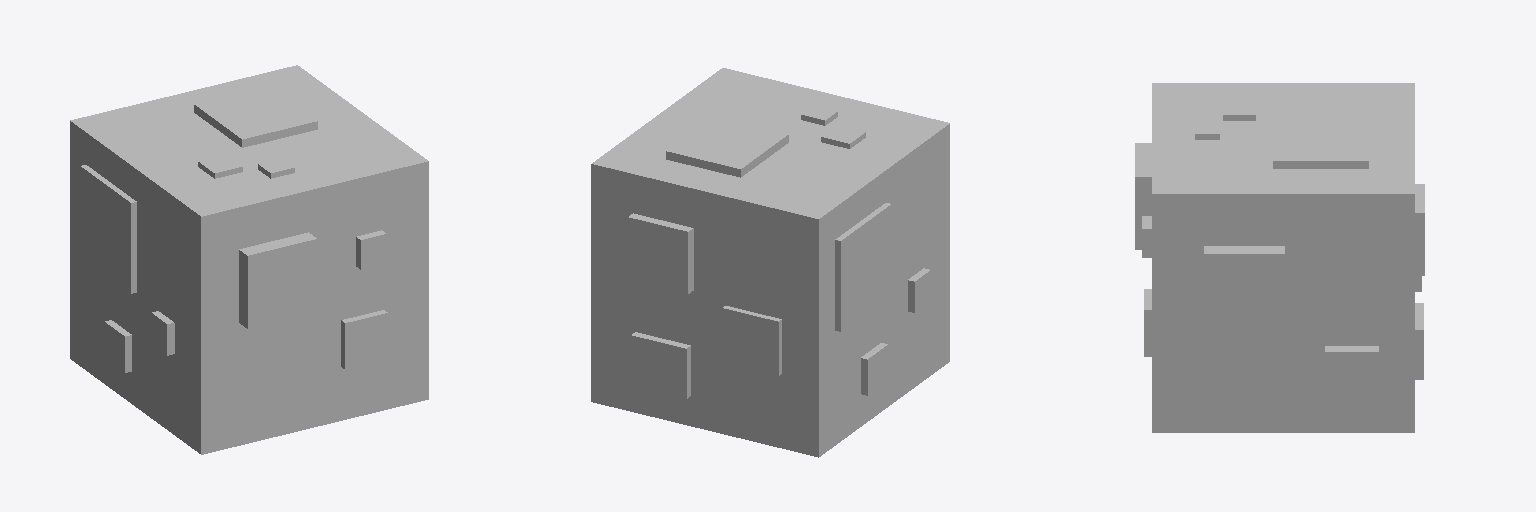
Rendered from iron_ore.obj.
3 renders of one model, left to right at view 1: azimuth 30°, elevation 25°; view 2: azimuth 150°, elevation 25°; view 3: azimuth 270°, elevation 25°, orthographic.
Visible parts, largest first — view 1: Full; view 2: Full; view 3: Full.
Boxes of the visible parts, x1,y1,x2,y2 form: Full: [70, 65, 428, 454]; Full: [591, 68, 949, 457]; Full: [1135, 83, 1424, 432].
Bounding box in the file's own units: 2.21 × 2.07 × 2.21.